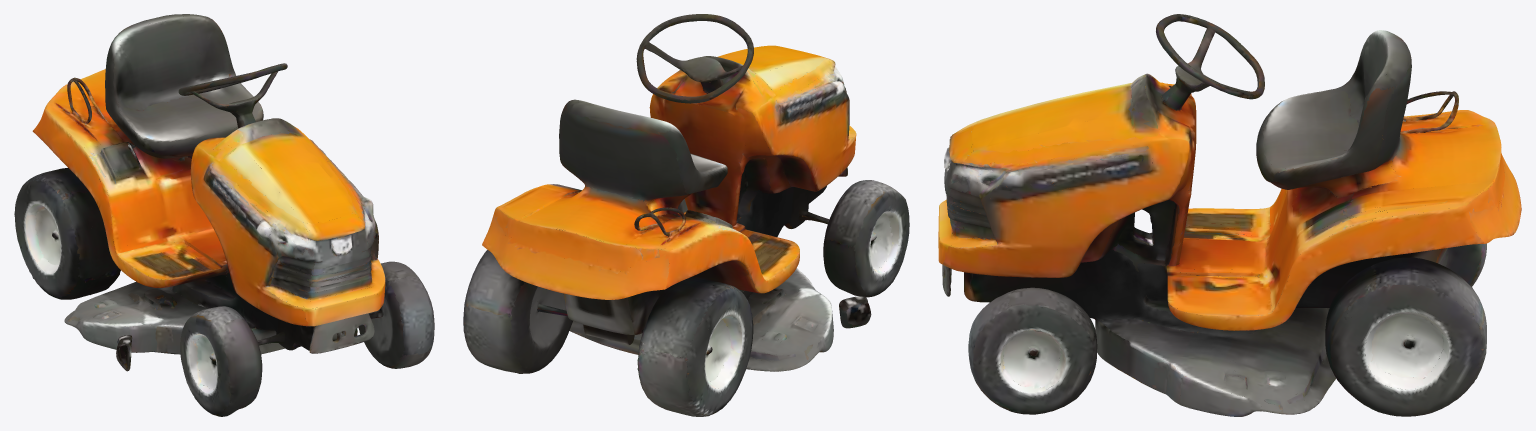
Rendered from ride_shaded.glb.
3 renders of one model, left to right at view 1: azimuth 30°, elevation 25°; view 2: azimuth 150°, elevation 25°; view 3: azimuth 270°, elevation 25°, orthographic. The views are drawn at different scales.
Visible parts, largest first — view 1: model; view 2: model; view 3: model.
Boxes of the visible parts, box(x1,y1,x2,y2) form: model: box(14, 14, 434, 416); model: box(463, 14, 909, 416); model: box(938, 14, 1521, 416).
Bounding box in the file's own units: 1.25 × 1.2 × 1.9.
1 material, 1 textured.
